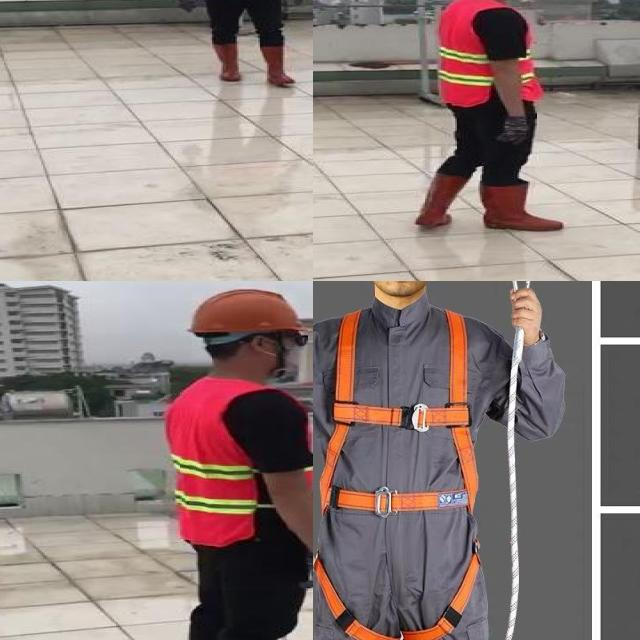Harness: (314, 308, 483, 640)
boots: (473, 182, 562, 231), (414, 174, 468, 228), (260, 45, 297, 86), (208, 41, 242, 81)
hand_glove: (500, 116, 526, 143), (301, 552, 313, 597), (172, 0, 199, 15), (286, 0, 306, 12)
head_helmet: (184, 286, 310, 336)
person: (148, 288, 313, 640), (396, 0, 579, 234), (166, 0, 313, 91)
vest: (166, 376, 313, 545), (437, 0, 538, 106)
